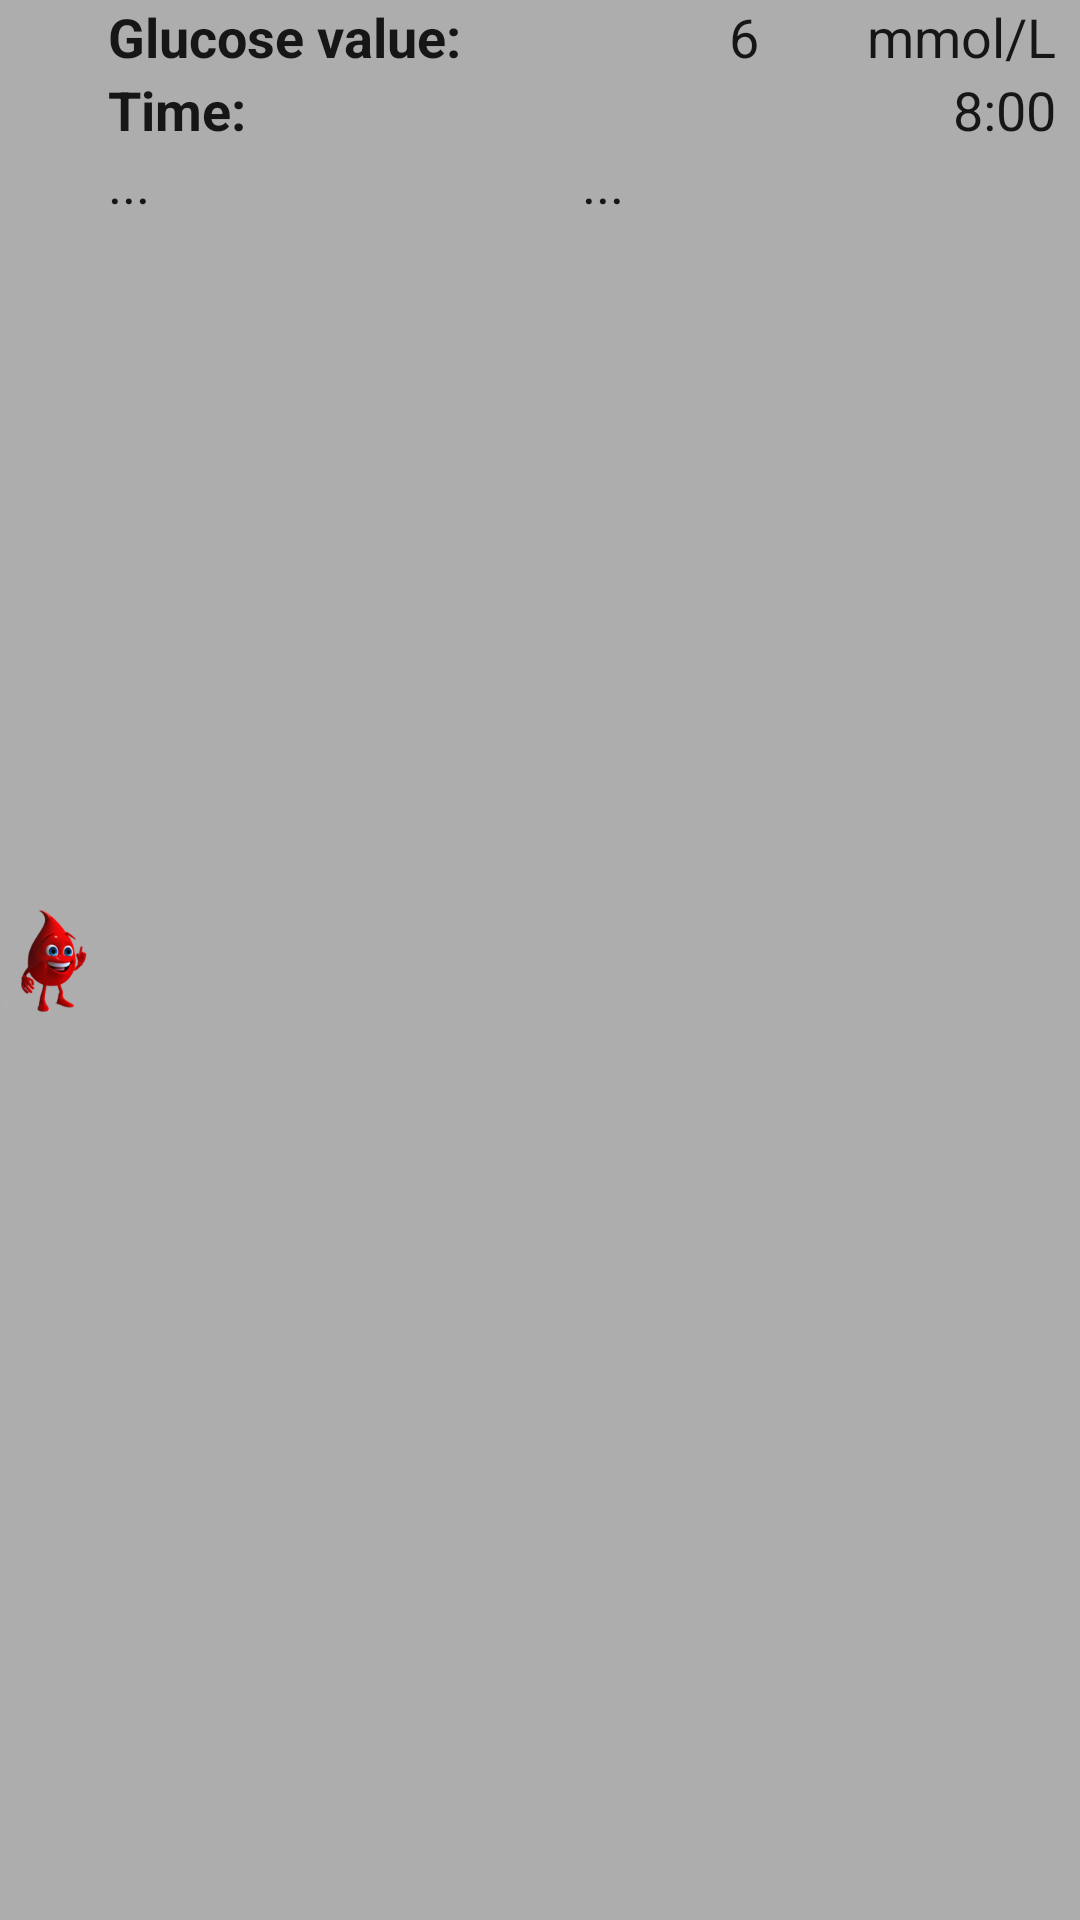

Locate icon controls on the screen. Image size 1080*1920, boxes as (left=x1, top=y1, right=x2, bottom=y2).
drops: (left=21, top=910, right=87, bottom=1012)
